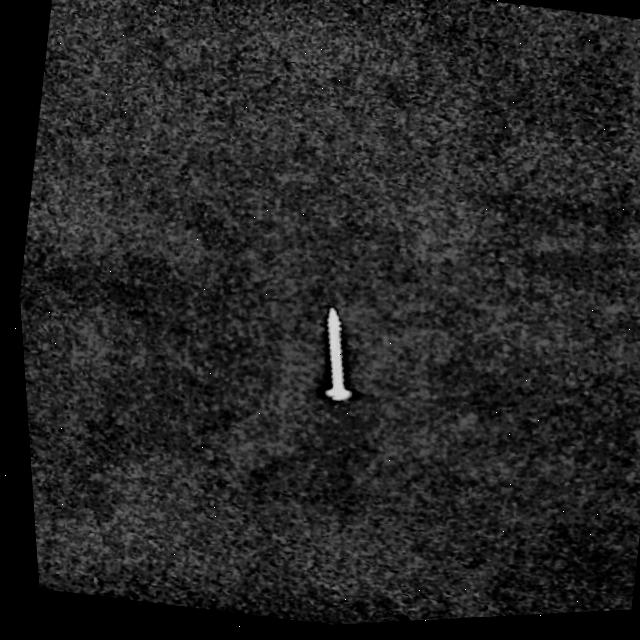Sheet metal screw: (305, 306, 362, 407)
